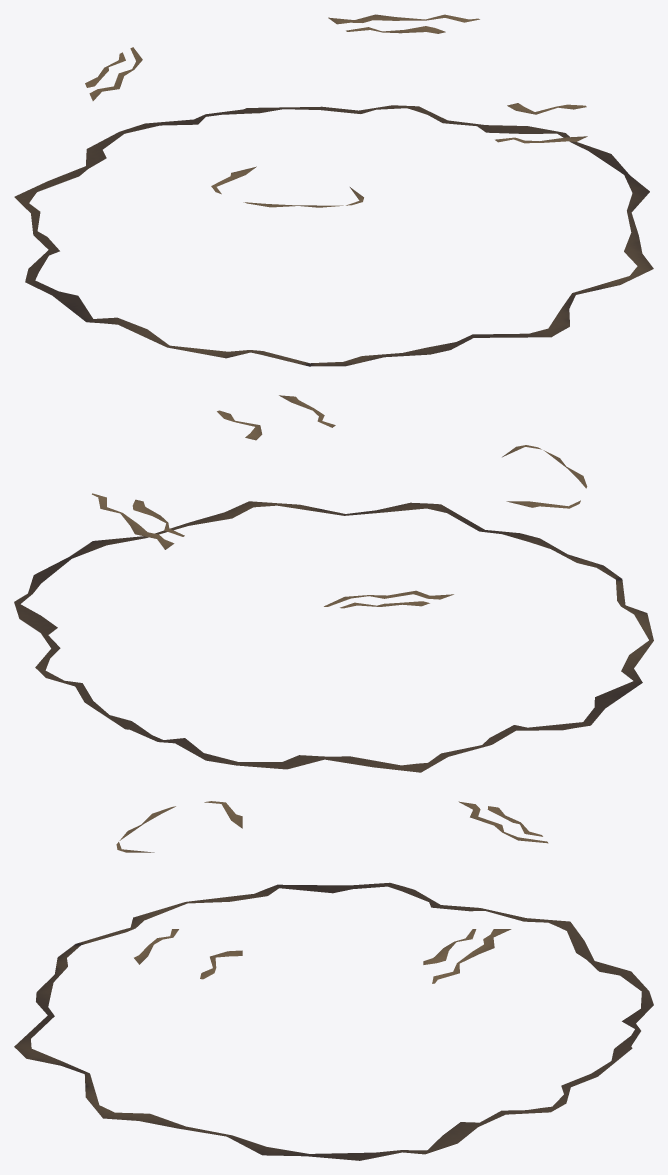
The model's file is Ground_06.FBX.
3 renders of one model, top to bottom at view 1: azimuth 30°, elevation 25°; view 2: azimuth 150°, elevation 25°; view 3: azimuth 270°, elevation 25°, orthographic.
Parts seen in each view (by area): view 1: Ground_06; view 2: Ground_06; view 3: Ground_06.
Part boxes in pixels (x1,y1,x2,y2): Ground_06: [14, 14, 653, 366]; Ground_06: [14, 395, 653, 772]; Ground_06: [14, 801, 653, 1160].
Bounding box in the file's own units: 24.39 × 5.36 × 23.73.
